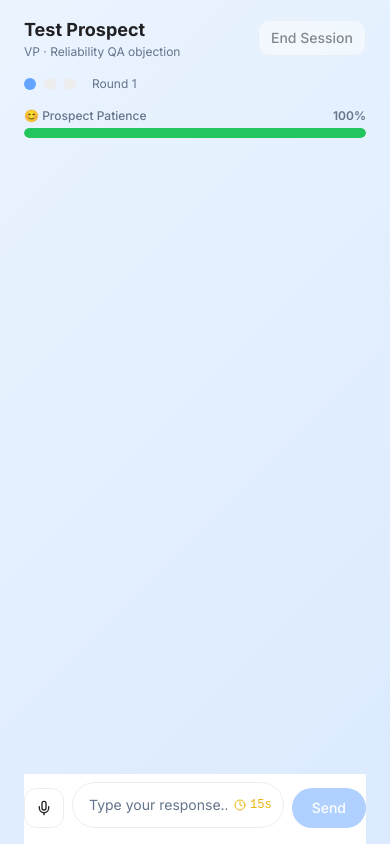
Test: GamifiedRoleplay Phase 2A reliability › pauses patience during recording, transcription and persistent voice failure; allows recovery
Step 1. Click the button named "Start voice recording" → (44, 808), box [24,788,64,828]
Wait 20250 ms
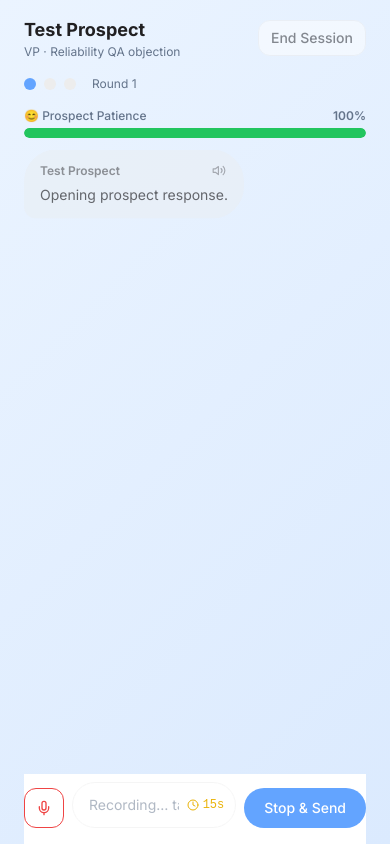
expect the text "100%" is shown: met, box [333,108,366,124]
Step 2. Click the button "Stop & Send" → (305, 808), box [244,788,366,828]
Wait 40000 ms
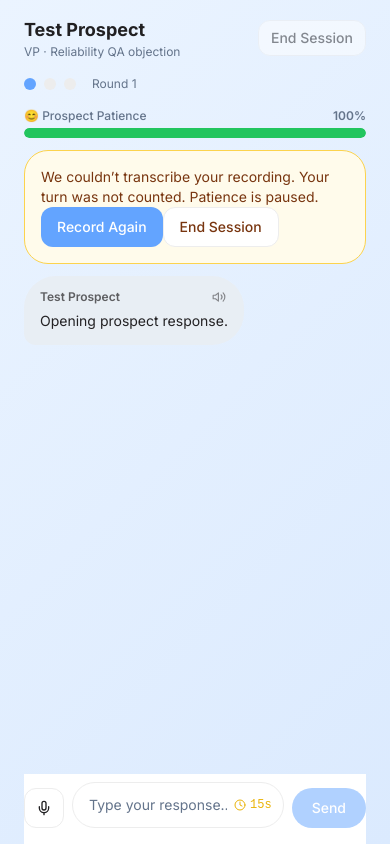
expect the text "100%" is shown: met, box [333,108,366,124]
expect the text "We couldn’t transcribe" is shown: met, box [41,168,329,205]
Step 3. Click the button "Record Again" → (102, 227), box [41,207,163,247]
Wait 250 ms
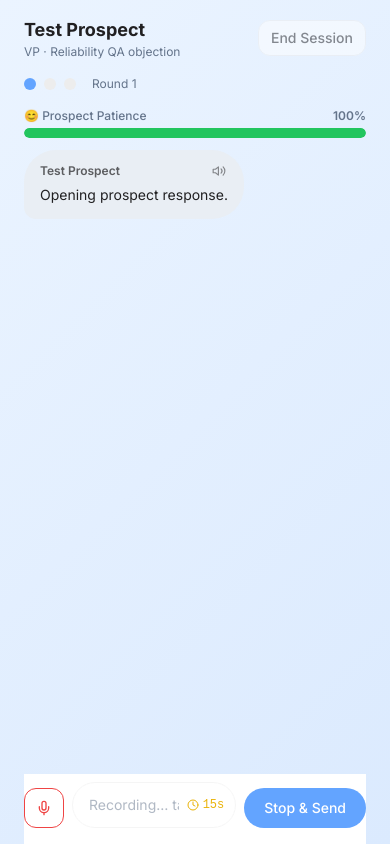
expect the button named "Stop recording" is shown: met, box [24,788,64,828]
Step 4. Click the button "Stop & Send" → (305, 808), box [244,788,366,828]
Wait 10 ms
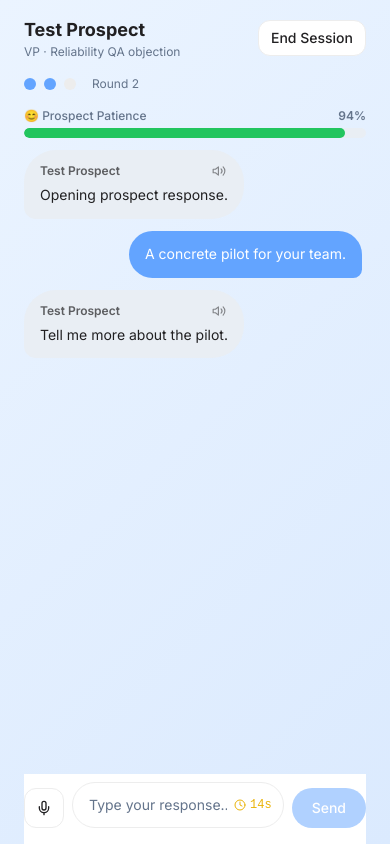
expect the text "A concrete pilot for your team." is shown once: met, box [129,231,362,278]
expect the text "Tell me more about the pilot." is shown: met, box [40,326,228,342]
expect the text "Round 2" is shown: met, box [92,76,139,92]
